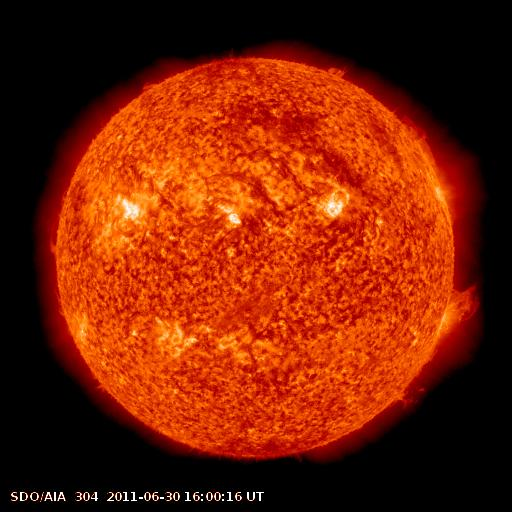prominence: (433, 281, 491, 344), (387, 107, 442, 168), (382, 377, 433, 414), (318, 56, 351, 87), (48, 211, 63, 263)
